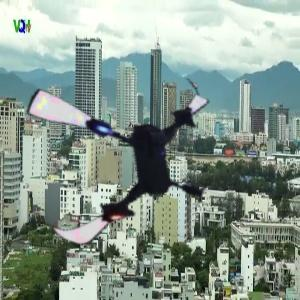drone: (13, 57, 225, 269)
